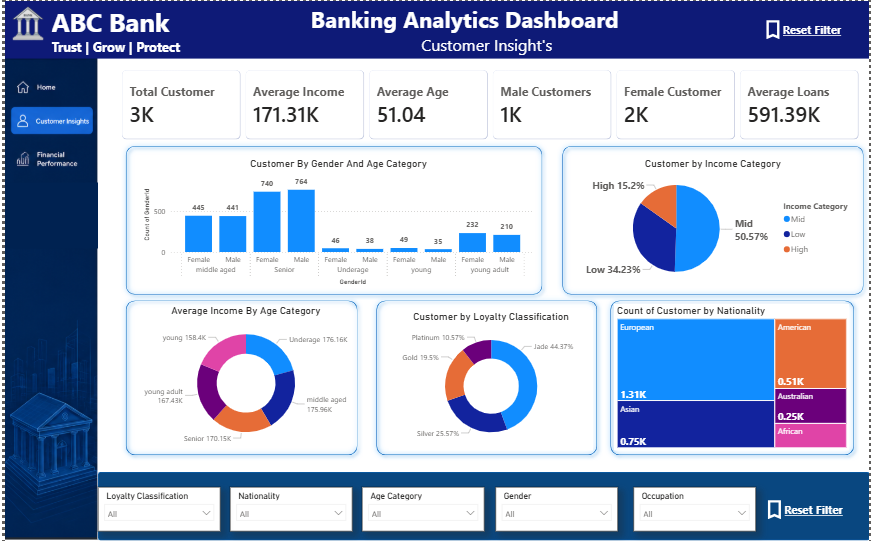

This screenshot's page, from the dashboard's own definition file:
{"tool":"powerbi","page":{"name":"Customer Insights","canvas":[1440,900],"ordinal":1},"visuals":[{"type":"shape","box":[610,490,386,276],"z":0},{"type":"shape","box":[154,786,1286,114],"z":1000},{"type":"image","box":[0,86,154,814],"z":2000},{"type":"shape","box":[1000,490,424,276],"z":3000},{"type":"shape","box":[0,0,1440,96],"z":4000},{"type":"image","box":[0,0,76.5,74.2],"z":5000},{"type":"textbox","box":[72.9,0,237.1,95.7],"z":6000},{"type":"textbox","box":[382,0,768,96],"z":7000},{"type":"cardVisual","fields":{"Data":["CountNonNull(Banking_Clean.Clinet ID)","Avg(Banking_Clean.Estimated Income)","Avg(Banking_Clean.Age)","Banking_Clean.Count Of Female","Banking_Clean.Count Of Female1","Avg(Banking_Clean.Bank Loans)"]},"box":[178,98,1262,150],"z":8000},{"type":"shape","box":[192,232,712,266],"z":9000},{"type":"clusteredColumnChart","title":"Customer By Gender And Age Category","fields":{"Category":["Banking_Clean.Age Category","Banking_Clean.GenderId"],"Y":["CountNonNull(Banking_Clean.GenderId)"]},"box":[224,260,662,218],"z":10000},{"type":"pieChart","title":"Customer by Income Category","fields":{"Category":["Banking_Clean.Income Category"],"Y":["CountNonNull(Banking_Clean.Estimated Income)"]},"box":[934,260,490,218],"z":11000},{"type":"treemap","title":"Count of Customer by Nationality","fields":{"Group":["Banking_Clean.Nationality"],"Values":["CountNonNull(Banking_Clean.Clinet ID)"]},"box":[1016,506,392,244],"z":12000},{"type":"slicer","fields":{"Values":["Banking_Clean.Occupation"]},"box":[1048,810,204,74],"z":13000},{"type":"slicer","fields":{"Values":["Banking_Clean.GenderId"]},"box":[818,810,204,74],"z":14000},{"type":"slicer","fields":{"Values":["Banking_Clean.Nationality"]},"box":[376,810,204,74],"z":15000},{"type":"slicer","fields":{"Values":["Banking_Clean.Age Category"]},"box":[596,810,204,74],"z":16000},{"type":"shape","box":[920,232,520,266],"z":17000},{"type":"actionButton","box":[1260,28,138,40],"z":18000},{"type":"donutChart","title":"Customer by Loyalty Classification","fields":{"Category":["Banking_Clean.Loyalty Classification"],"Y":["CountNonNull(Banking_Clean.Clinet ID)"]},"box":[640,516,340,234],"z":19000},{"type":"actionButton","box":[1262,828,138,40],"z":20000},{"type":"donutChart","title":"Average Income By Age Category","fields":{"Category":["Banking_Clean.Age Category"],"Y":["Avg(Banking_Clean.Estimated Income)"]},"box":[208,506,388,244],"z":21000},{"type":"shape","box":[192,490,404,276],"z":22000},{"type":"slicer","fields":{"Values":["Banking_Clean.Loyalty Classification"]},"box":[154,810,204,74],"z":23000},{"type":"shape","box":[0,301.7,155,110],"z":23001}]}

Visuals, with their boxes in screenshot pixels (x1, y1, x2, y2), scaled from the page's 1440x900 canvas onto the 871x541 screenshot:
shape: <bbox>369, 295, 602, 460</bbox>
shape: <bbox>93, 472, 870, 540</bbox>
image: <bbox>0, 52, 93, 540</bbox>
shape: <bbox>605, 295, 861, 460</bbox>
shape: <bbox>0, 0, 870, 58</bbox>
image: <bbox>0, 0, 46, 45</bbox>
textbox: <bbox>44, 0, 188, 58</bbox>
textbox: <bbox>231, 0, 696, 58</bbox>
cardVisual - CountNonNull(Banking_Clean.Clinet ID) x Avg(Banking_Clean.Estimated Income): <bbox>108, 59, 870, 149</bbox>
shape: <bbox>116, 139, 547, 299</bbox>
"Customer By Gender And Age Category" clusteredColumnChart: <bbox>135, 156, 536, 287</bbox>
"Customer by Income Category" pieChart: <bbox>565, 156, 861, 287</bbox>
"Count of Customer by Nationality" treemap: <bbox>615, 304, 852, 451</bbox>
slicer - Banking_Clean.Occupation: <bbox>634, 487, 757, 531</bbox>
slicer - Banking_Clean.GenderId: <bbox>495, 487, 618, 531</bbox>
slicer - Banking_Clean.Nationality: <bbox>227, 487, 351, 531</bbox>
slicer - Banking_Clean.Age Category: <bbox>360, 487, 484, 531</bbox>
shape: <bbox>556, 139, 870, 299</bbox>
actionButton: <bbox>762, 17, 846, 41</bbox>
"Customer by Loyalty Classification" donutChart: <bbox>387, 310, 593, 451</bbox>
actionButton: <bbox>763, 498, 847, 522</bbox>
"Average Income By Age Category" donutChart: <bbox>126, 304, 360, 451</bbox>
shape: <bbox>116, 295, 360, 460</bbox>
slicer - Banking_Clean.Loyalty Classification: <bbox>93, 487, 217, 531</bbox>
shape: <bbox>0, 181, 94, 247</bbox>
